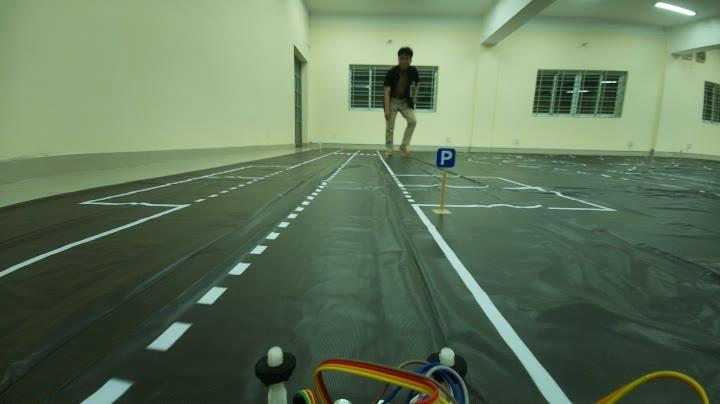parking: (431, 146, 459, 169)
